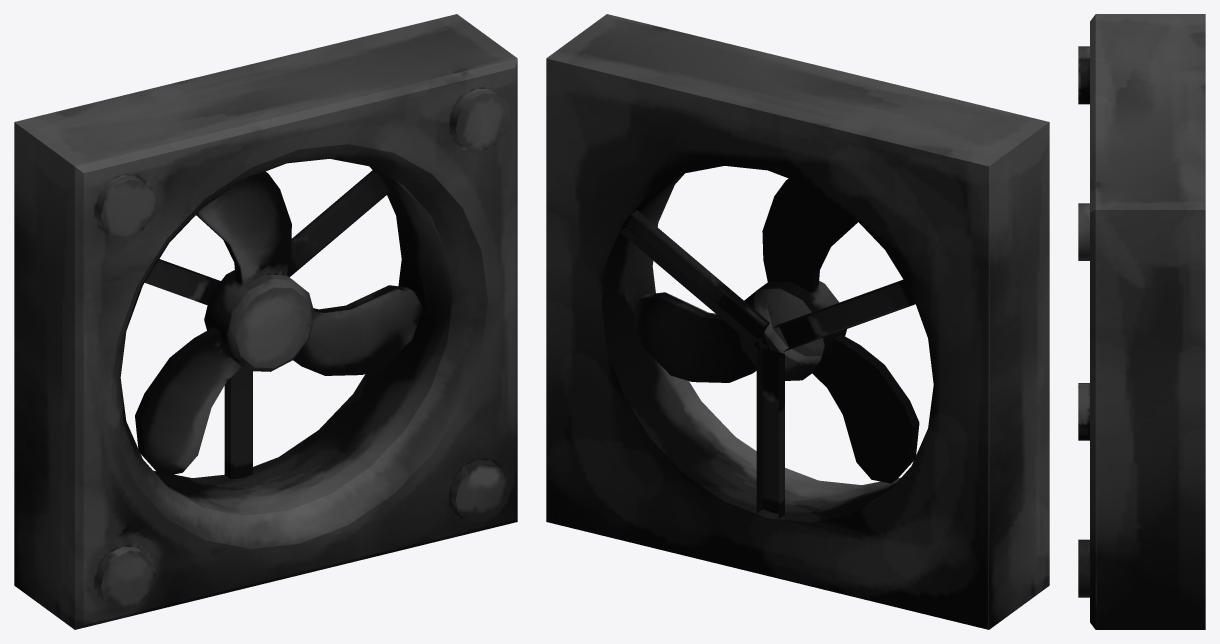
File: Fan.glb
3 views of the same model, side by side, from view 1: azimuth 30°, elevation 25°; view 2: azimuth 150°, elevation 25°; view 3: azimuth 270°, elevation 25° (orthographic). The views are drawn at different scales.
Parts seen in each view (by area): view 1: Fan, FanBlades; view 2: Fan, FanBlades; view 3: Fan.
Part boxes in pixels (box(x1,y1,x2,y2)): Fan: box(14, 14, 517, 629); FanBlades: box(135, 171, 423, 476); Fan: box(546, 14, 1049, 629); FanBlades: box(631, 178, 919, 483); Fan: box(1078, 14, 1205, 629).
Size of the model in its own units: 4 by 4 by 1.1.
Materials: 1 (1 with a texture image).
